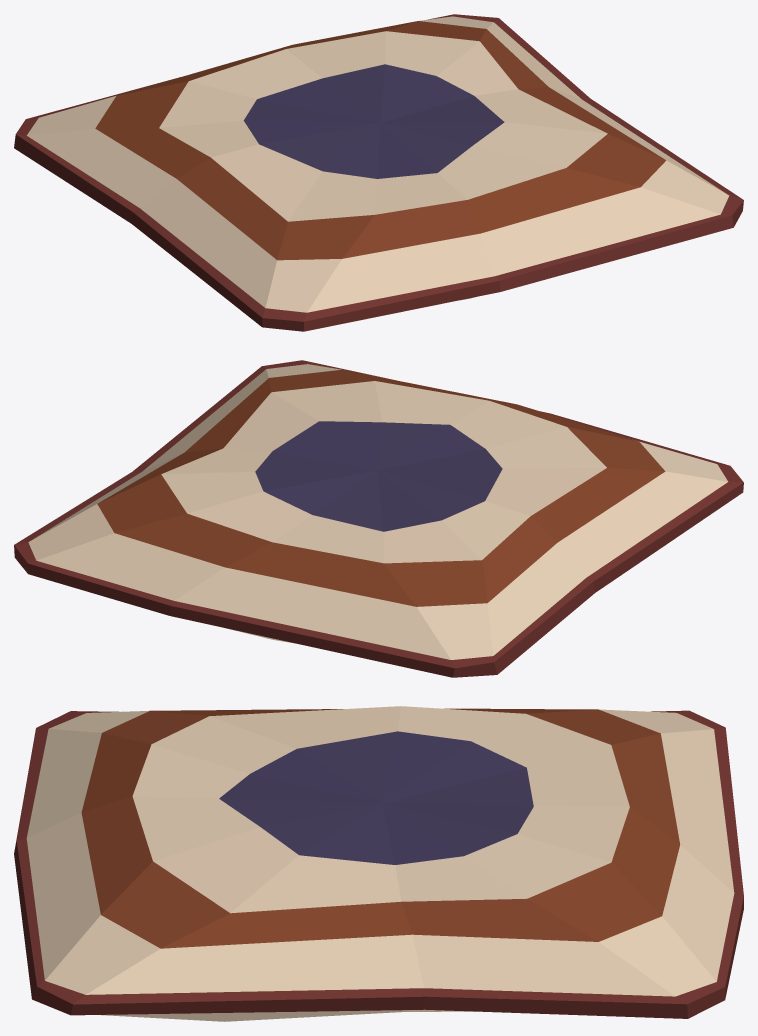
The model's file is SM_Prop_Pillow_03.glb.
3 views of the same model, one above another, from view 1: azimuth 30°, elevation 25°; view 2: azimuth 150°, elevation 25°; view 3: azimuth 270°, elevation 25° (orthographic). The views are drawn at different scales.
Visible parts, largest first — view 1: SM_Prop_Pillow_03; view 2: SM_Prop_Pillow_03; view 3: SM_Prop_Pillow_03.
Boxes of the visible parts, x1,y1,x2,y2 form: SM_Prop_Pillow_03: [14, 14, 743, 331]; SM_Prop_Pillow_03: [14, 360, 743, 677]; SM_Prop_Pillow_03: [14, 706, 743, 1021].
Size of the model in its own units: 0.8093 by 0.1726 by 0.8482.
1 material, 1 textured.
